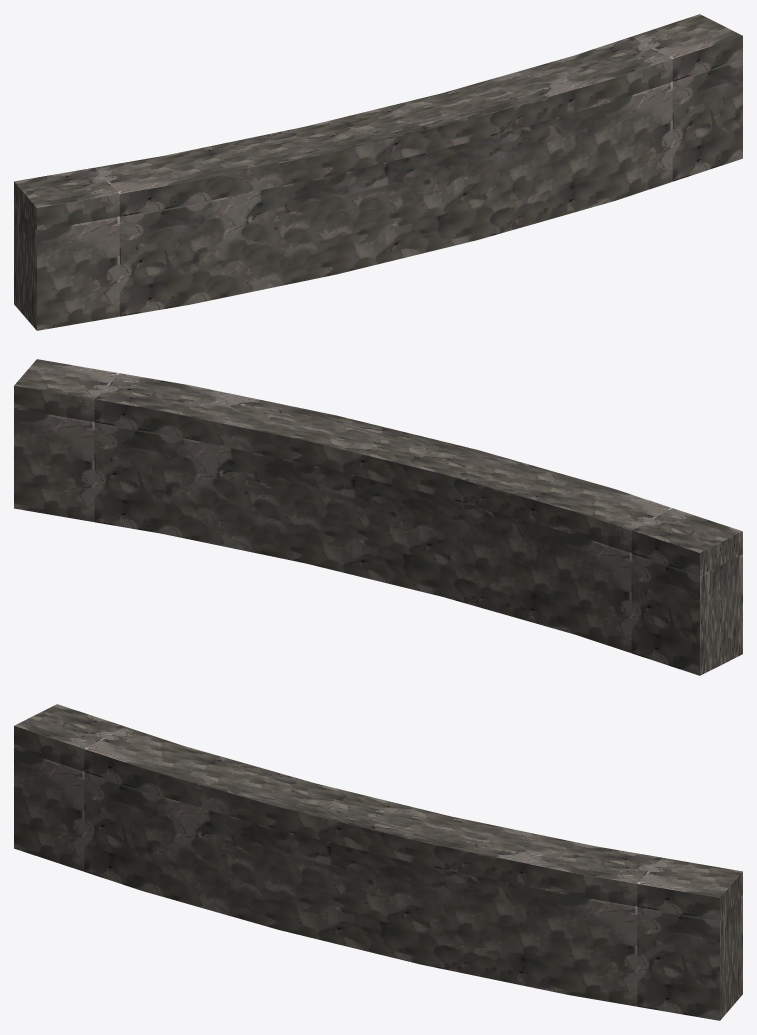
Rendered from CH09_SMAUG_PLAYSURFACE_LAIR78.fbx.
3 renders of one model, top to bottom at view 1: azimuth 30°, elevation 25°; view 2: azimuth 150°, elevation 25°; view 3: azimuth 330°, elevation 25°, orthographic.
Visible parts, largest first — view 1: CH09_SMAUG_PLAYSURFACE_LAIR78; view 2: CH09_SMAUG_PLAYSURFACE_LAIR78; view 3: CH09_SMAUG_PLAYSURFACE_LAIR78.
Part boxes in pixels (x1,y1,x2,y2): CH09_SMAUG_PLAYSURFACE_LAIR78: (14,14,742,330); CH09_SMAUG_PLAYSURFACE_LAIR78: (14,359,742,675); CH09_SMAUG_PLAYSURFACE_LAIR78: (14,704,742,1020).
Bounding box in the file's own units: 144419 × 24006 × 17759.
Materials: 1 (1 with a texture image).
